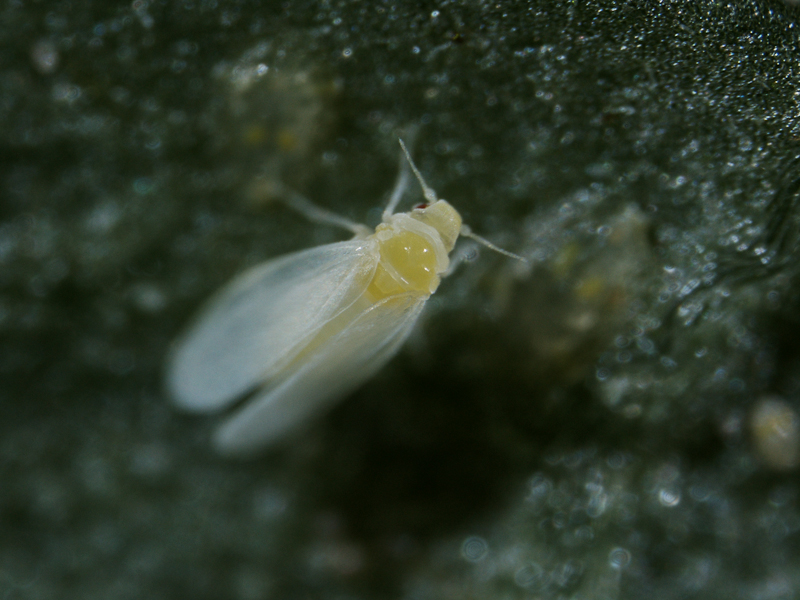Tobacco Whitefly: (129, 172, 495, 458)
